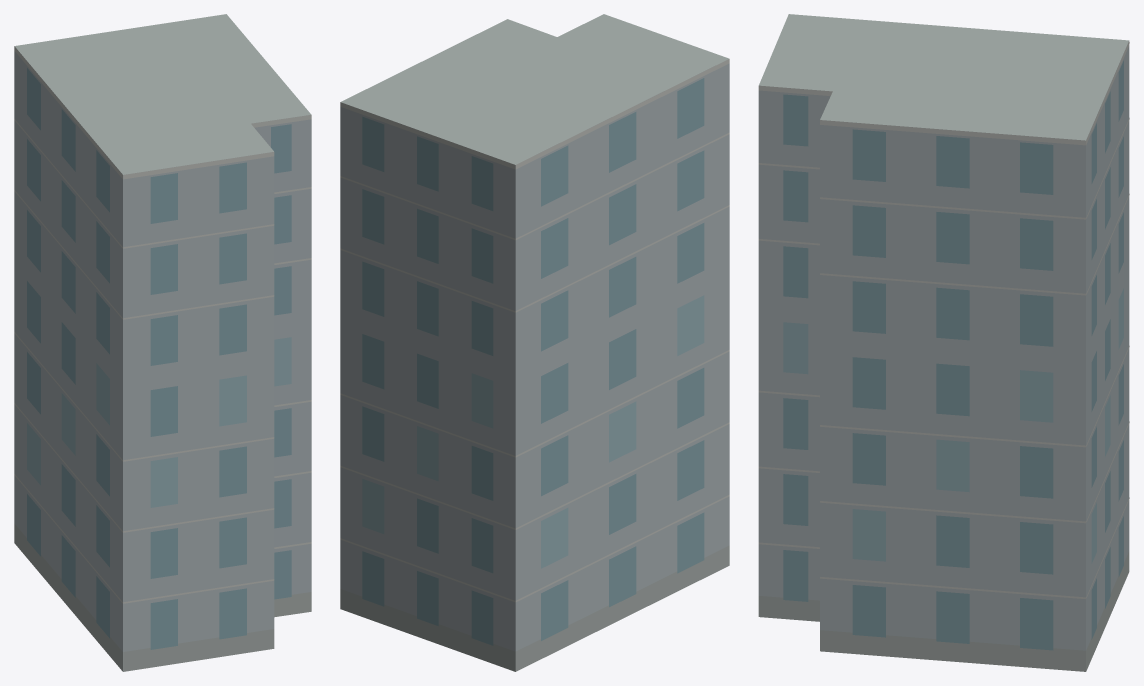
Rendered from survey-upis-32999492.glb.
3 views of the same model, side by side, from view 1: azimuth 30°, elevation 25°; view 2: azimuth 150°, elevation 25°; view 3: azimuth 270°, elevation 25° (orthographic). The views are drawn at different scales.
Visible parts, largest first — view 1: survey-upis-32999492.tmp; view 2: survey-upis-32999492.tmp; view 3: survey-upis-32999492.tmp.
Part boxes in pixels (x1=…): survey-upis-32999492.tmp: x1=14, y1=14, x2=311, y2=671; survey-upis-32999492.tmp: x1=340, y1=14, x2=729, y2=671; survey-upis-32999492.tmp: x1=758, y1=14, x2=1129, y2=671.
Size of the model in its own units: 13.56 by 26.5 by 16.78.
